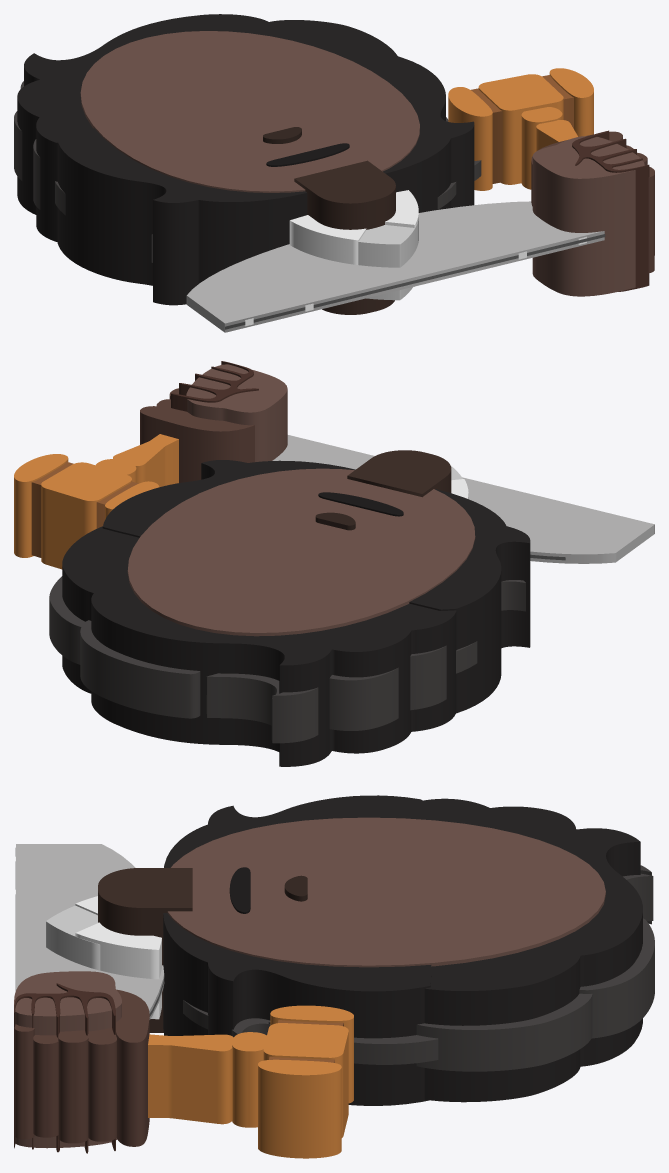
File: emoji_u1f9d1_1f3ff_200d_2696.glb
3 renders of one model, top to bottom at view 1: azimuth 30°, elevation 25°; view 2: azimuth 150°, elevation 25°; view 3: azimuth 270°, elevation 25°, orthographic. The views are drawn at different scales.
Visible parts, largest first — view 1: emoji_u1f9d1_1f3ff_200d_2696; view 2: emoji_u1f9d1_1f3ff_200d_2696; view 3: emoji_u1f9d1_1f3ff_200d_2696.
Boxes of the visible parts, box(x1,y1,x2,y2) form: emoji_u1f9d1_1f3ff_200d_2696: box(14, 14, 654, 332); emoji_u1f9d1_1f3ff_200d_2696: box(14, 361, 654, 766); emoji_u1f9d1_1f3ff_200d_2696: box(14, 795, 654, 1158).
Bounding box in the file's own units: 0.0331 × 0.0078 × 0.0335.
